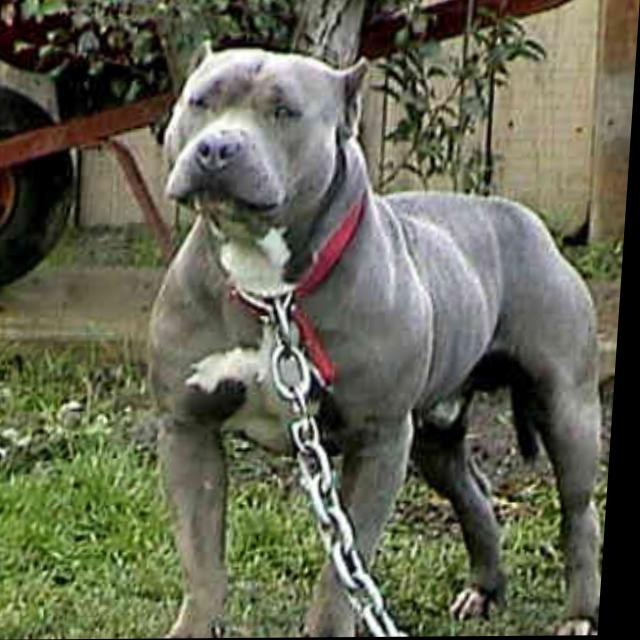am_pit_bull_terrier: (134, 37, 638, 640)
